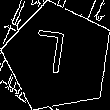L_S: (39, 30, 77, 85)
